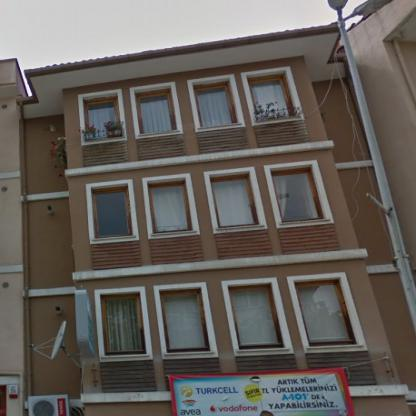window: (297, 284, 351, 342), (231, 288, 280, 345), (164, 292, 206, 348), (102, 298, 143, 352), (272, 172, 318, 220), (212, 178, 254, 226), (152, 186, 186, 231), (250, 80, 290, 118), (195, 87, 231, 126), (96, 191, 127, 236), (140, 94, 172, 133), (86, 100, 116, 137)
